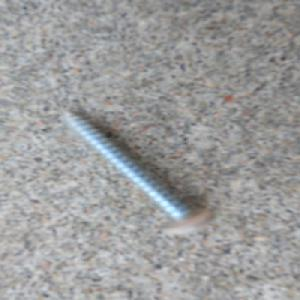Screw: (59, 110, 216, 237)
